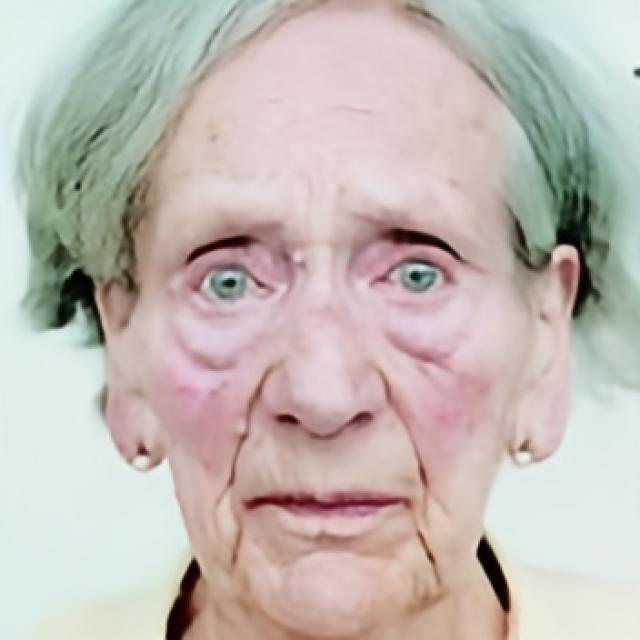sad: (138, 0, 523, 640)
